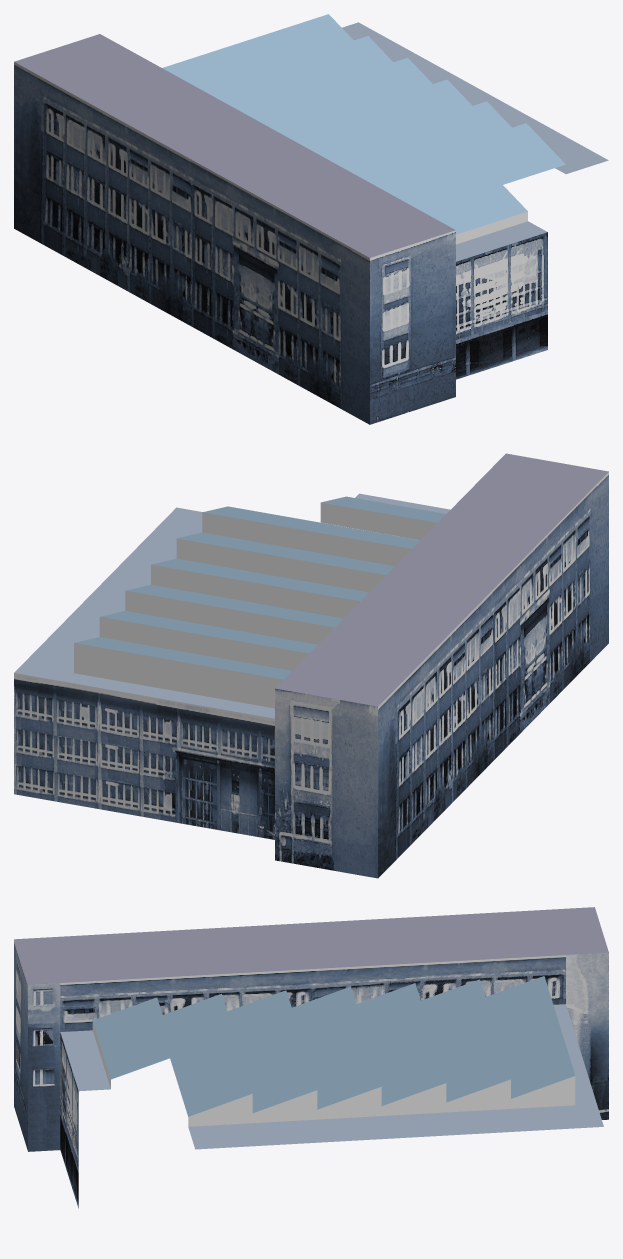
File: Kutzbach-Bau.gltf
3 views of the same model, one above another, from view 1: azimuth 30°, elevation 25°; view 2: azimuth 150°, elevation 25°; view 3: azimuth 270°, elevation 25° (orthographic). The views are drawn at different scales.
Parts seen in each view (by area): view 1: Dach.1; view 2: Dach.1; view 3: Dach.1.
Part boxes in pixels (x1,y1,x2,y2): Dach.1: [14, 14, 608, 424]; Dach.1: [14, 453, 608, 878]; Dach.1: [14, 907, 608, 1208].
Bounding box in the file's own units: 42.14 × 17 × 54.84.
Materials: 12 (8 with a texture image).
